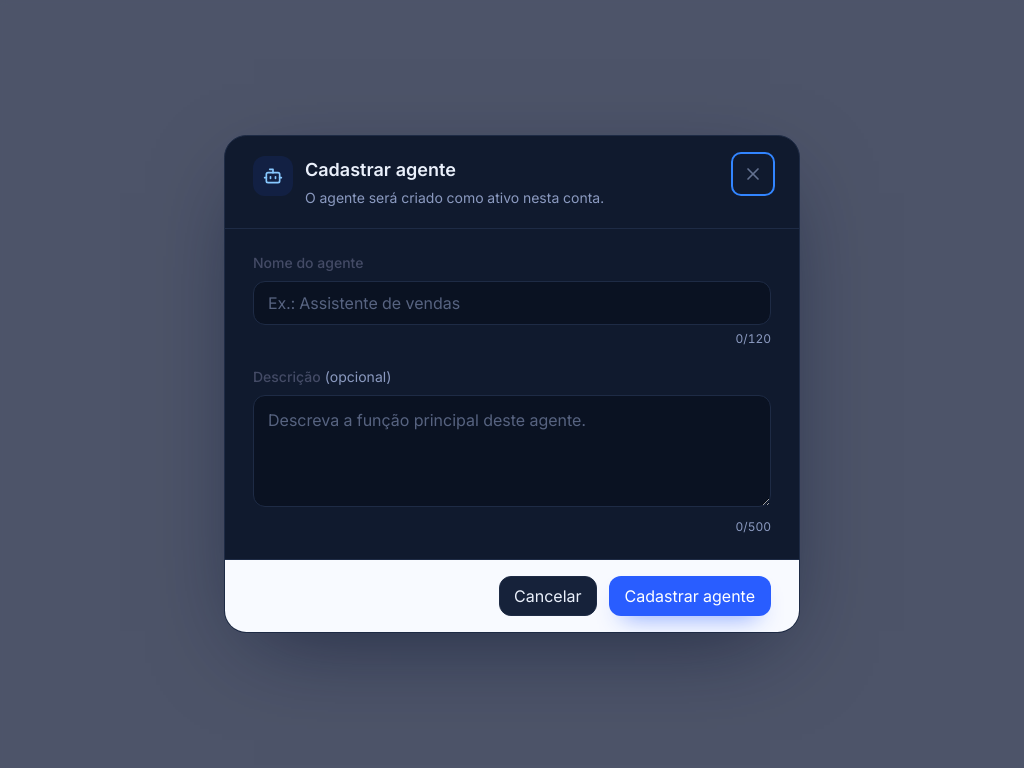
Test case: cadastro de agente › mapeia duplicidade, detalhes de campo, erro da API e erro inesperado
The width and height of the screenshot is (1024, 768).
Type "Agente" into the field labelled "Nome do agente".
click(512, 303); type("Agente")  # box [253,281,771,325]
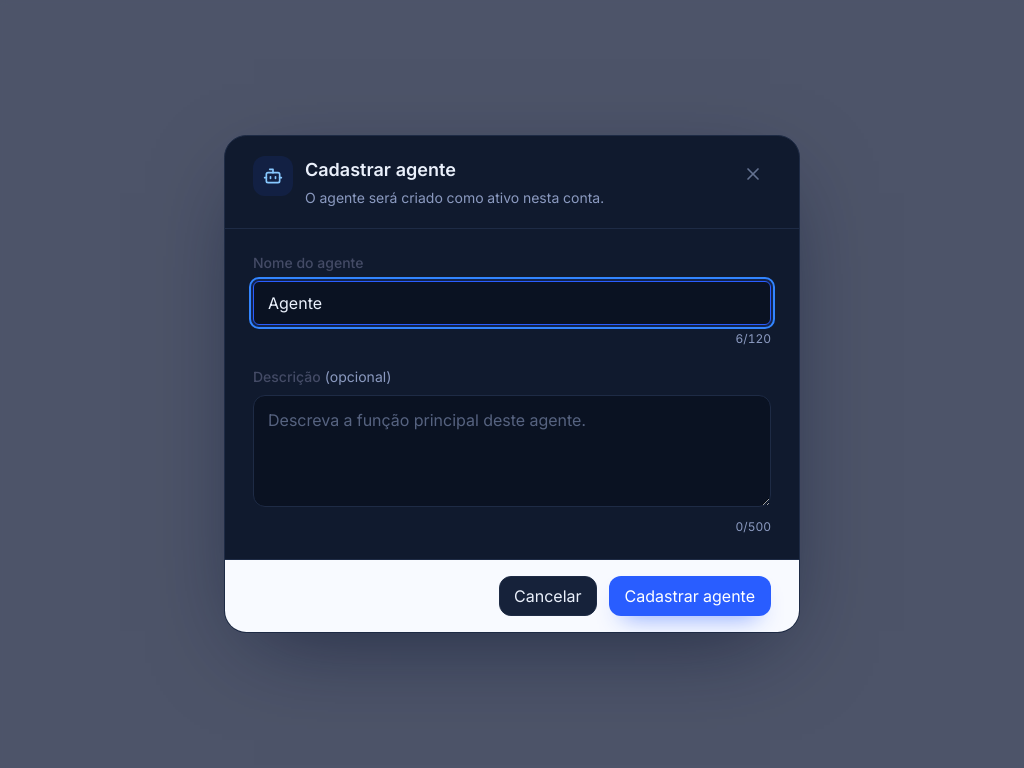
Click the button "Cadastrar agente".
click(690, 596)  # box [608,576,771,616]
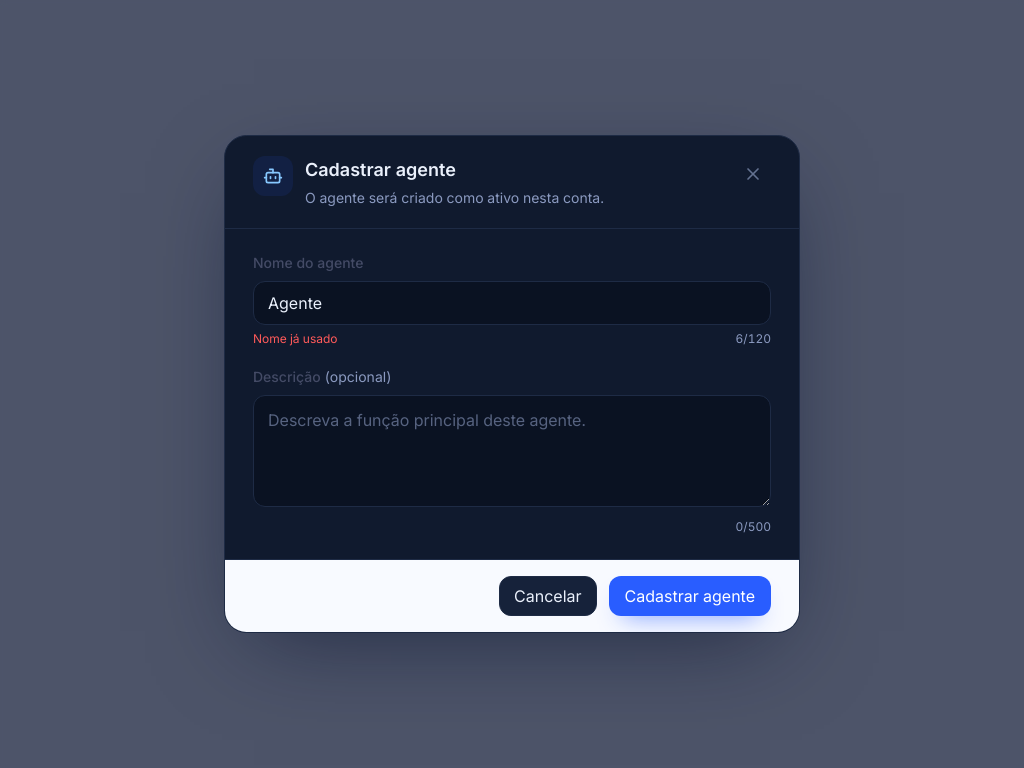
Expected: the text "Nome já usado" is shown, [253,331,338,347]
Click the button "Cadastrar agente".
click(690, 596)  # box [608,576,771,616]
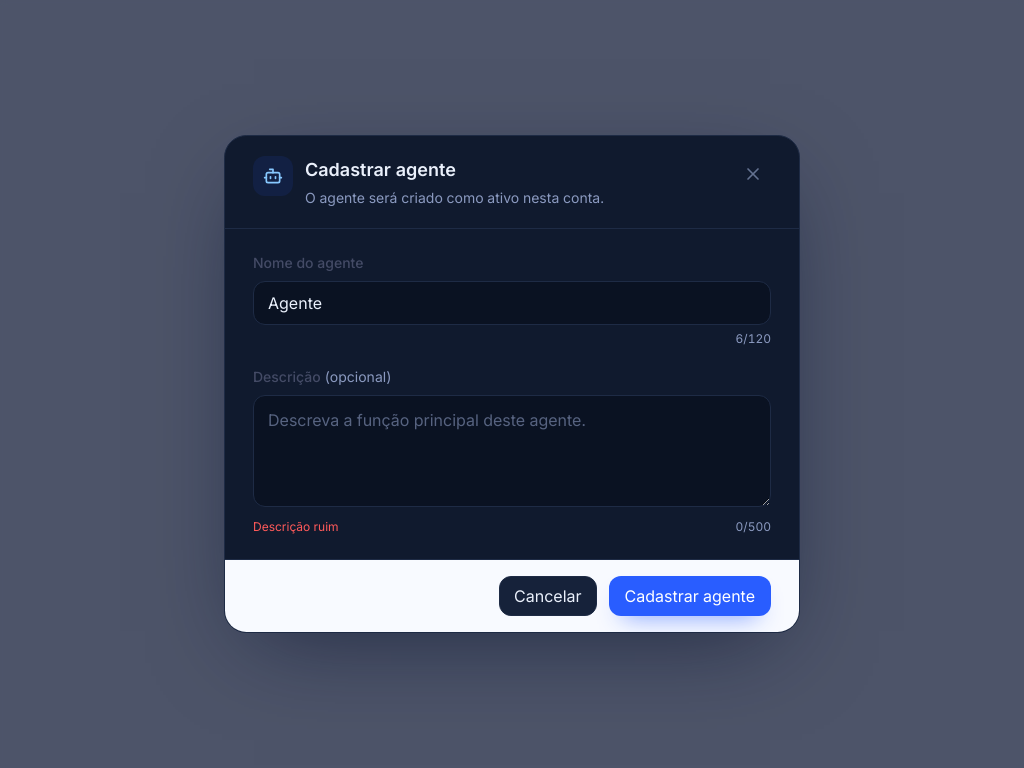
Expected: the text "Descrição ruim" is shown, [253,519,338,535]
Click the button "Cadastrar agente".
click(690, 596)  # box [608,576,771,616]
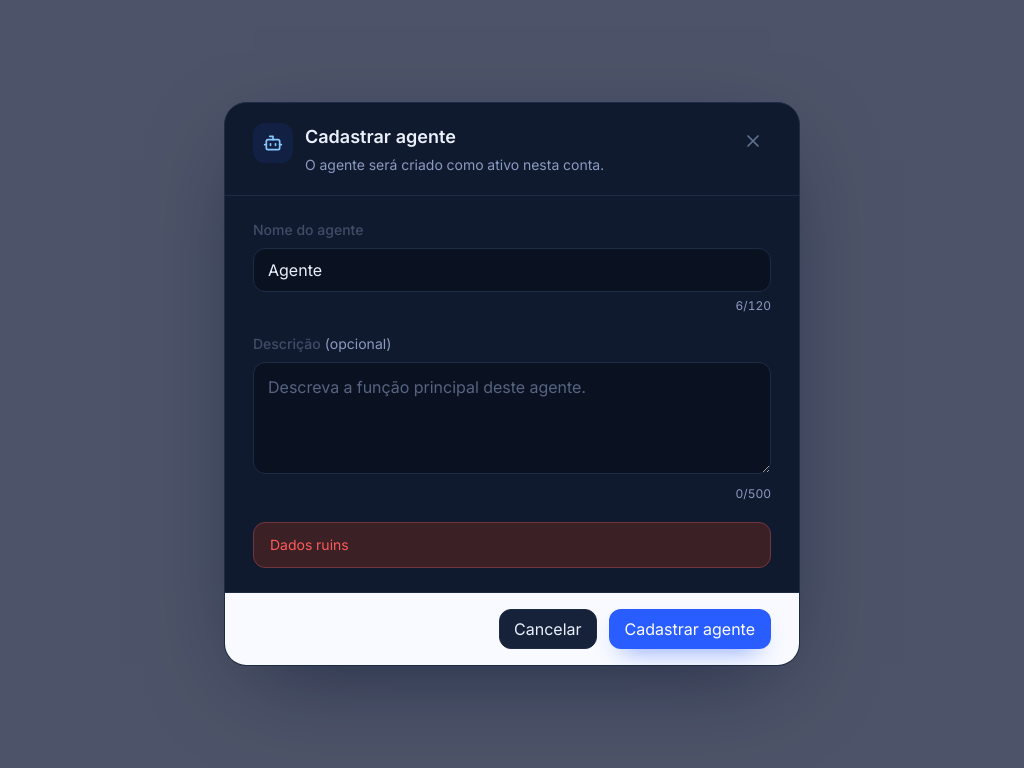
Expected: the message reads "Dados ruins", [270,536,349,553]
Click the button "Cadastrar agente".
click(690, 629)  # box [608,609,771,649]
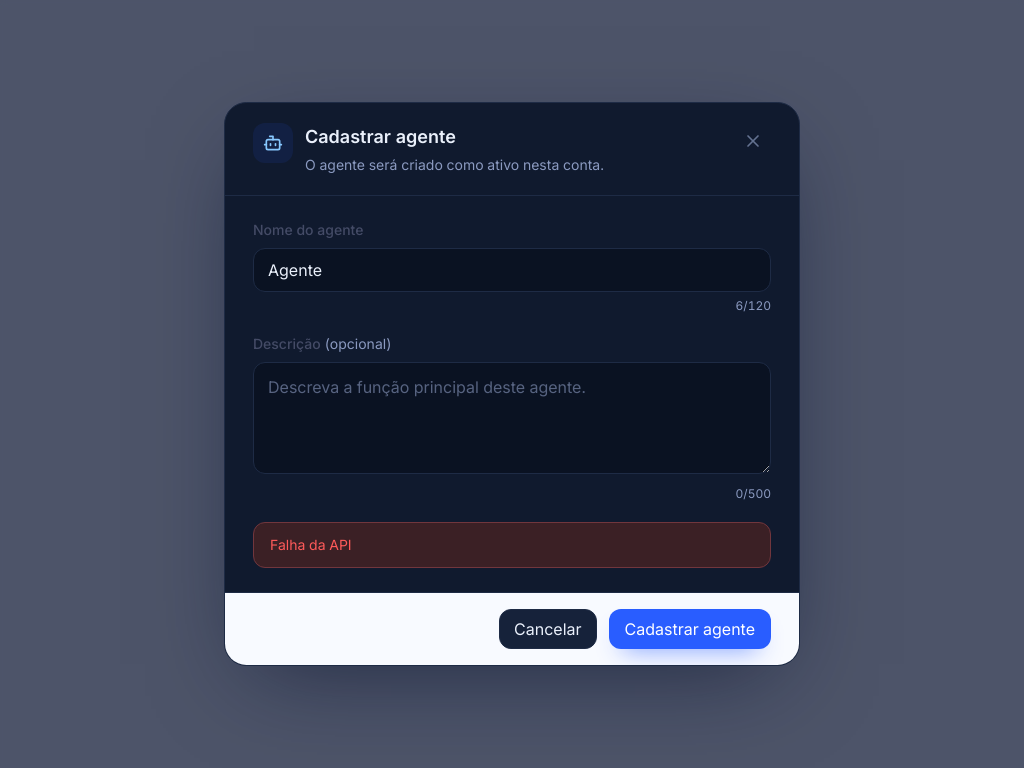
Expected: the message reads "Falha da API", [270,536,352,553]
Click the button "Cadastrar agente".
click(690, 629)  # box [608,609,771,649]
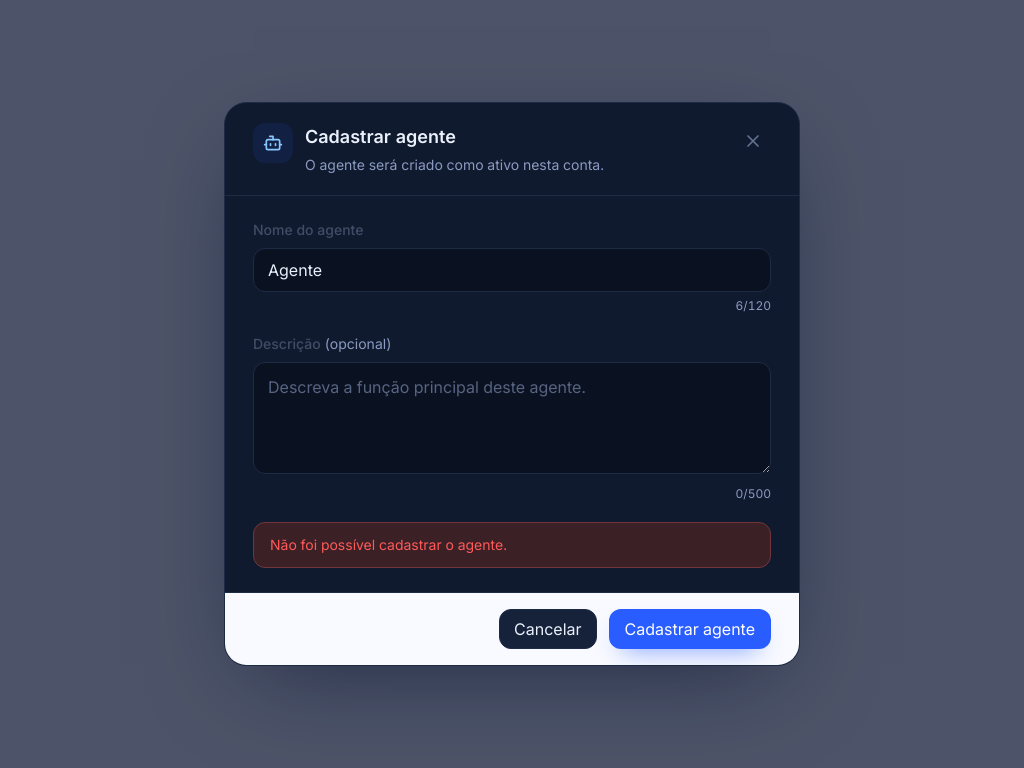
Expected: the message shows "Não foi possível cadastrar", [270,536,507,553]
